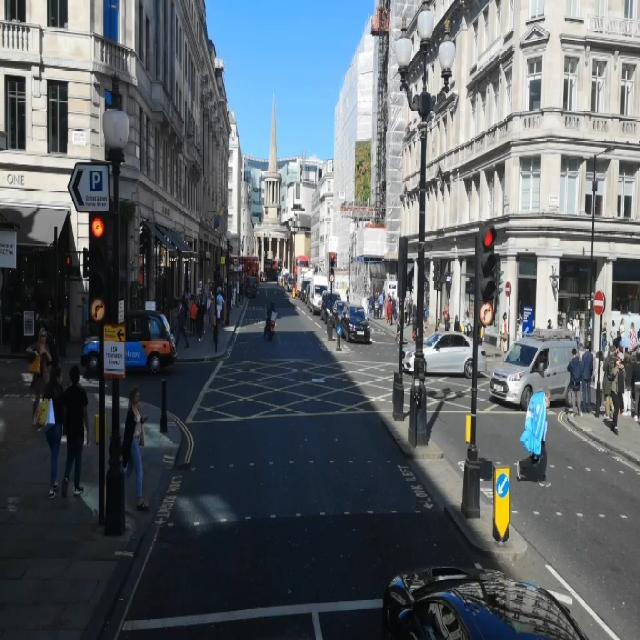pedestrian: (123, 387, 148, 509)
